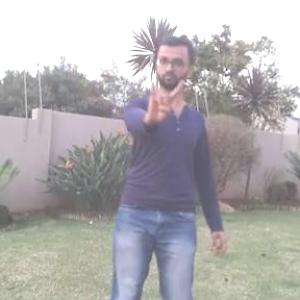takeoff-hand: (144, 72, 184, 124)
